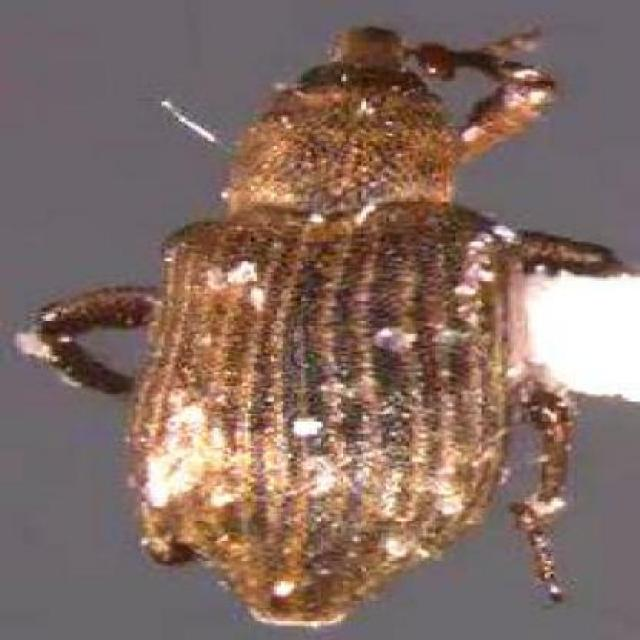rice-bug: (23, 24, 622, 626)
